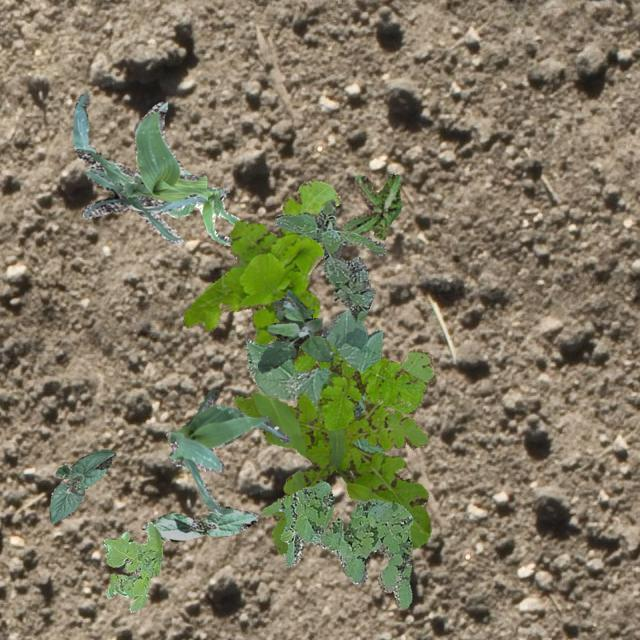crop: (72, 90, 206, 243), (244, 308, 384, 452), (165, 388, 288, 514), (166, 169, 240, 245), (49, 448, 114, 522), (142, 506, 258, 540)
weed: (232, 348, 434, 554), (182, 178, 340, 344), (260, 480, 412, 608), (274, 198, 386, 322), (290, 344, 424, 428), (256, 288, 332, 372), (102, 520, 162, 612), (340, 172, 400, 238)
